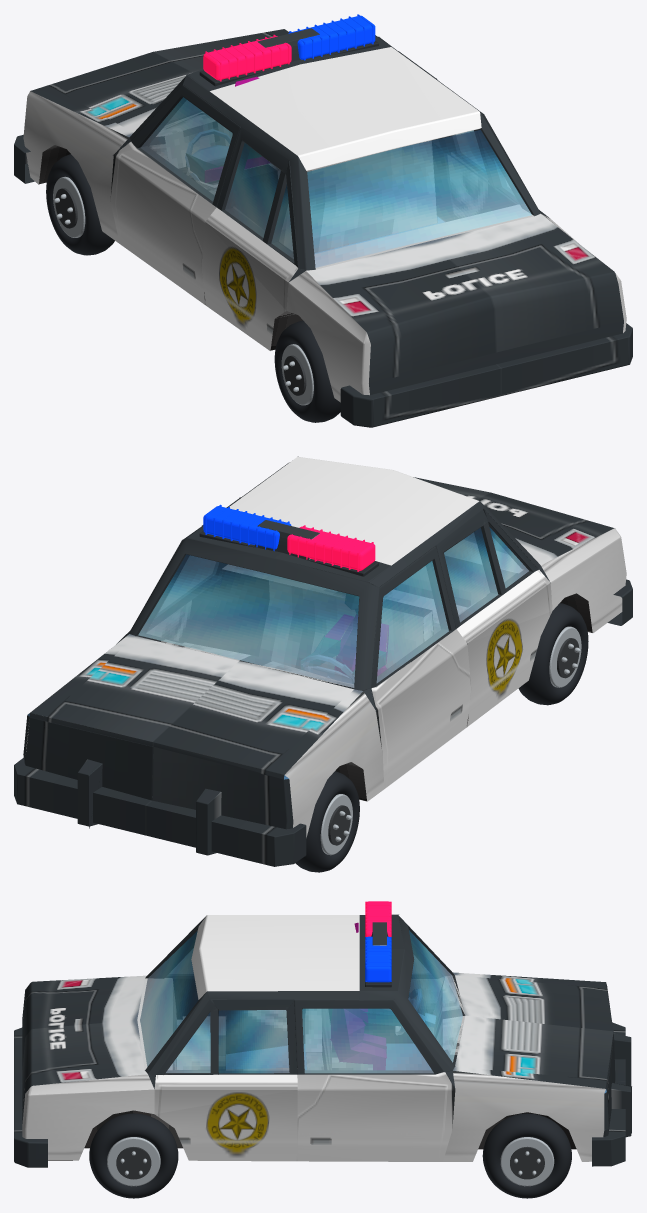
Rendered from car-cpolice.glb.
3 views of the same model, one above another, from view 1: azimuth 30°, elevation 25°; view 2: azimuth 150°, elevation 25°; view 3: azimuth 270°, elevation 25° (orthographic). The views are drawn at different scales.
Visible parts, largest first — view 1: cPoliceShape.001, cPoliceShape.004, cPoliceShape.006, cPoliceShape.002, cPoliceShape.008, cPoliceShape.005, DoorDRotShape, DoorDRotShape.002, cpolice wheel assembly.001, cpolice wheel assembly.002, DoorDRotShape.001, cpolice beacon -1 (+6 smaller); view 2: cPoliceShape.005, cPoliceShape.004, cPoliceShape.006, cPoliceShape.002, cPoliceShape.008, DoorDRotShape, cPoliceShape.001, DoorDRotShape.002, cpolice wheel assembly.001, cpolice wheel assembly.002, DoorDRotShape.001, DoorPRotShape.001 (+7 smaller); view 3: cPoliceShape.002, cPoliceShape.004, cPoliceShape.005, cPoliceShape.001, cPoliceShape.006, cPoliceShape.008, DoorPRotShape, DoorPRotShape.002, cpolice wheel assembly.003, cpolice wheel assembly, driverShape, DoorPRotShape.001 (+5 smaller).
Boxes of the visible parts, left/top/right/bottom form: cPoliceShape.001: left=306, top=213, right=632, bottom=427; cPoliceShape.004: left=24, top=28, right=549, bottom=281; cPoliceShape.006: left=167, top=100, right=531, bottom=267; cPoliceShape.002: left=23, top=91, right=626, bottom=402; cPoliceShape.008: left=210, top=47, right=481, bottom=170; cPoliceShape.005: left=14, top=29, right=289, bottom=183; DoorDRotShape: left=110, top=142, right=216, bottom=290; DoorDRotShape.002: left=140, top=97, right=232, bottom=201; cpolice wheel assembly.001: left=274, top=320, right=340, bottom=422; cpolice wheel assembly.002: left=46, top=154, right=114, bottom=255; DoorDRotShape.001: left=131, top=85, right=240, bottom=207; cpolice beacon -1: left=203, top=34, right=291, bottom=81; cPoliceShape.005: left=14, top=634, right=362, bottom=866; cPoliceShape.004: left=27, top=456, right=550, bottom=779; cPoliceShape.006: left=138, top=527, right=528, bottom=687; cPoliceShape.002: left=26, top=528, right=626, bottom=837; cPoliceShape.008: left=229, top=457, right=479, bottom=565; DoorDRotShape: left=371, top=629, right=471, bottom=776; cPoliceShape.001: left=413, top=477, right=632, bottom=625; DoorDRotShape.002: left=376, top=561, right=448, bottom=683; cpolice wheel assembly.001: left=518, top=603, right=588, bottom=705; cpolice wheel assembly.002: left=295, top=771, right=359, bottom=872; DoorDRotShape.001: left=371, top=546, right=456, bottom=705; DoorPRotShape.001: left=117, top=555, right=227, bottom=646; cPoliceShape.002: left=22, top=974, right=605, bottom=1161; cPoliceShape.004: left=137, top=914, right=606, bottom=1166; cPoliceShape.005: left=453, top=972, right=631, bottom=1166; cPoliceShape.001: left=14, top=975, right=147, bottom=1167; cPoliceShape.006: left=140, top=930, right=462, bottom=1073; cPoliceShape.008: left=191, top=915, right=359, bottom=999; DoorPRotShape: left=297, top=1072, right=455, bottom=1150; DoorPRotShape.002: left=302, top=1008, right=433, bottom=1073; cpolice wheel assembly.003: left=482, top=1113, right=571, bottom=1198; cpolice wheel assembly: left=89, top=1113, right=178, bottom=1198; driverShape: left=330, top=922, right=409, bottom=1069; DoorPRotShape.001: left=294, top=1000, right=455, bottom=1089.
Bounding box in the file's own units: 2.47 × 2.05 × 5.4.
Materials: 15 (9 with a texture image).
